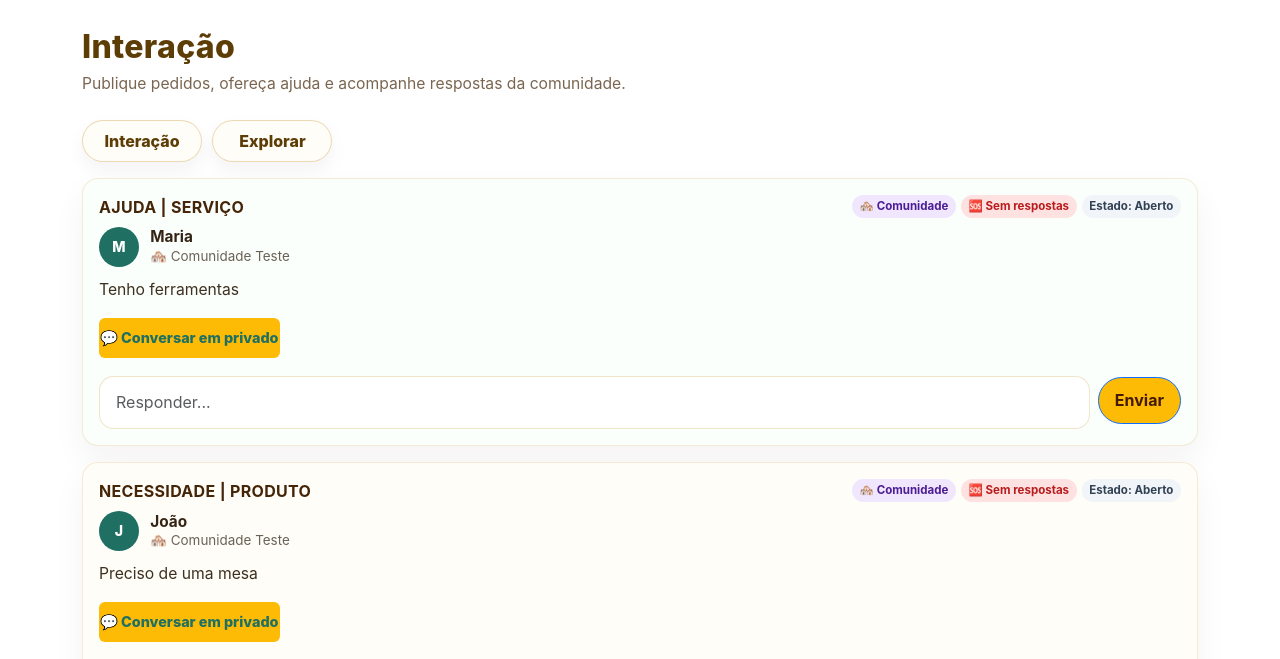
Scenario: filtros continuam funcionando dentro de Explorar
This screenshot has width=1280, height=659.
Check: the text "Tenho ferramentas" is shown, box x1=99 y1=280 x2=239 y2=299
Click the button "Explorar". click: x=272, y=140
box: x1=212 y1=120 x2=332 y2=162
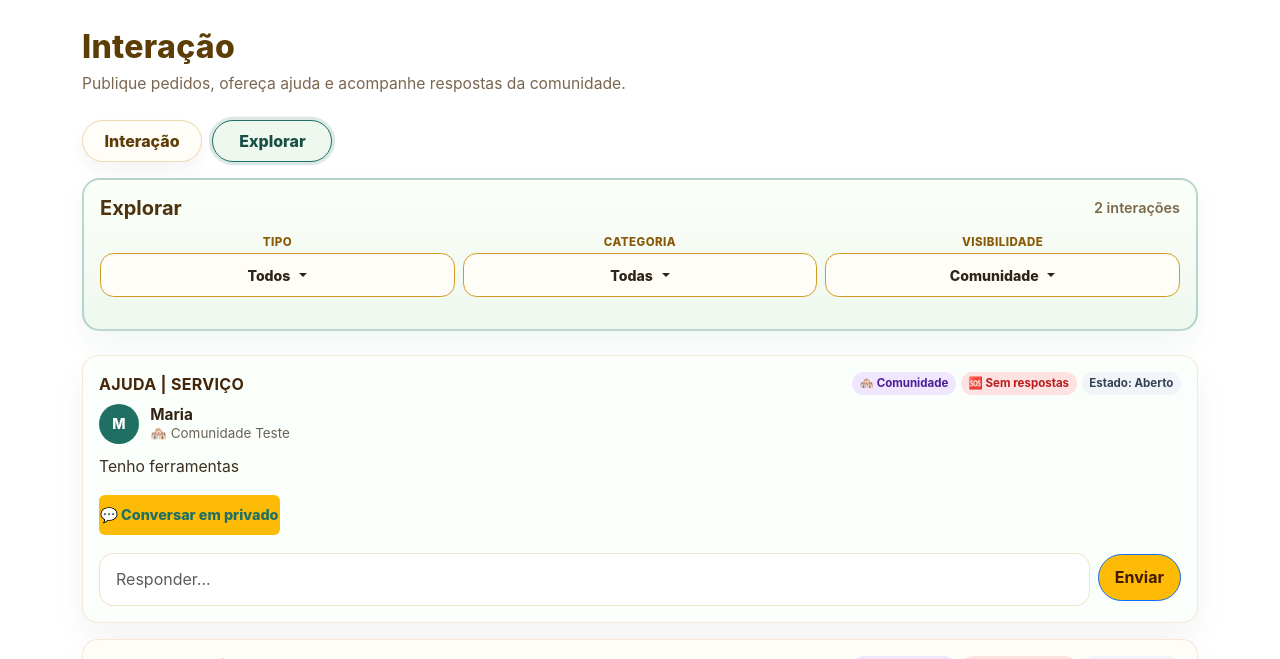
Click the button named "Tipo Todos". click: x=277, y=275
box: x1=100 y1=253 x2=455 y2=297
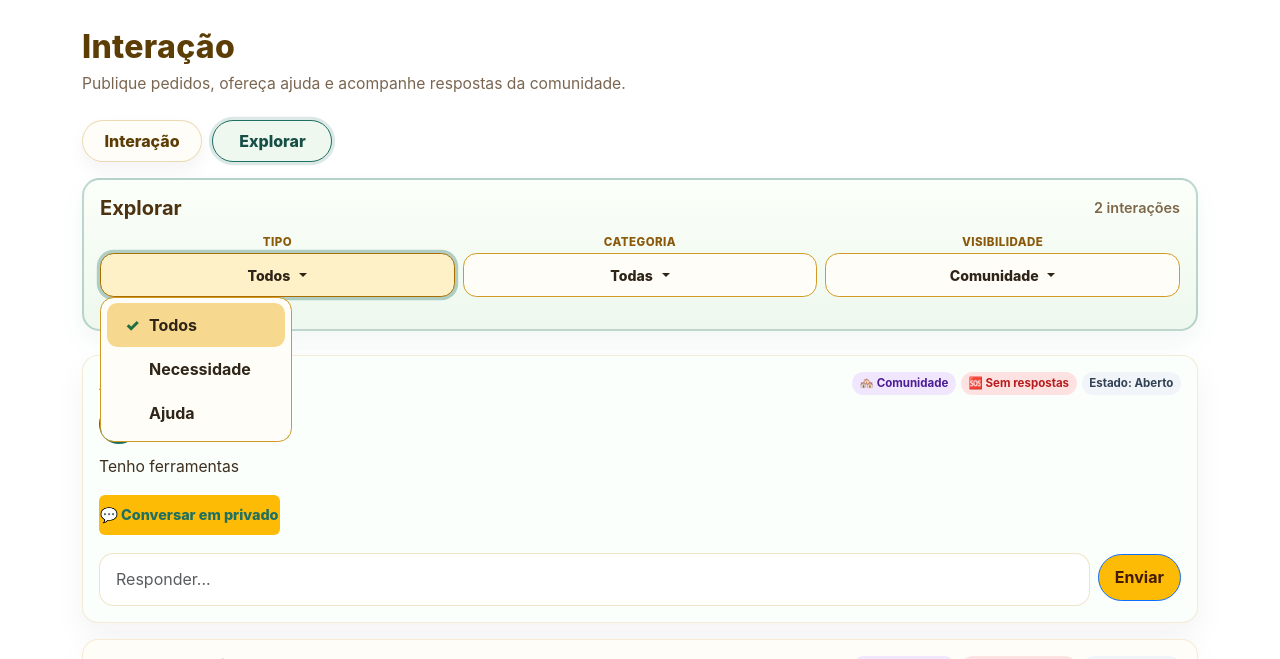
Click the menu item "Necessidade". click: x=196, y=369
box: x1=107 y1=347 x2=285 y2=391
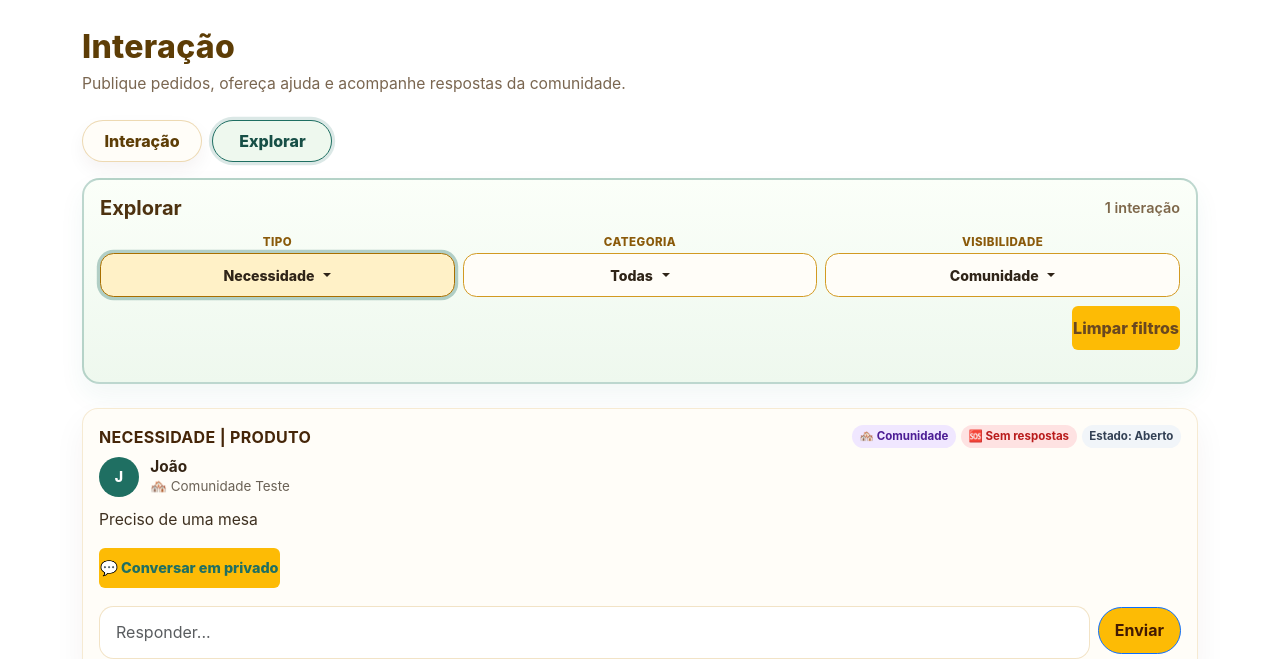
Check: the text "Preciso de uma mesa" is shown, box x1=99 y1=510 x2=258 y2=529
Check: the text "Tenho ferramentas" is gone
